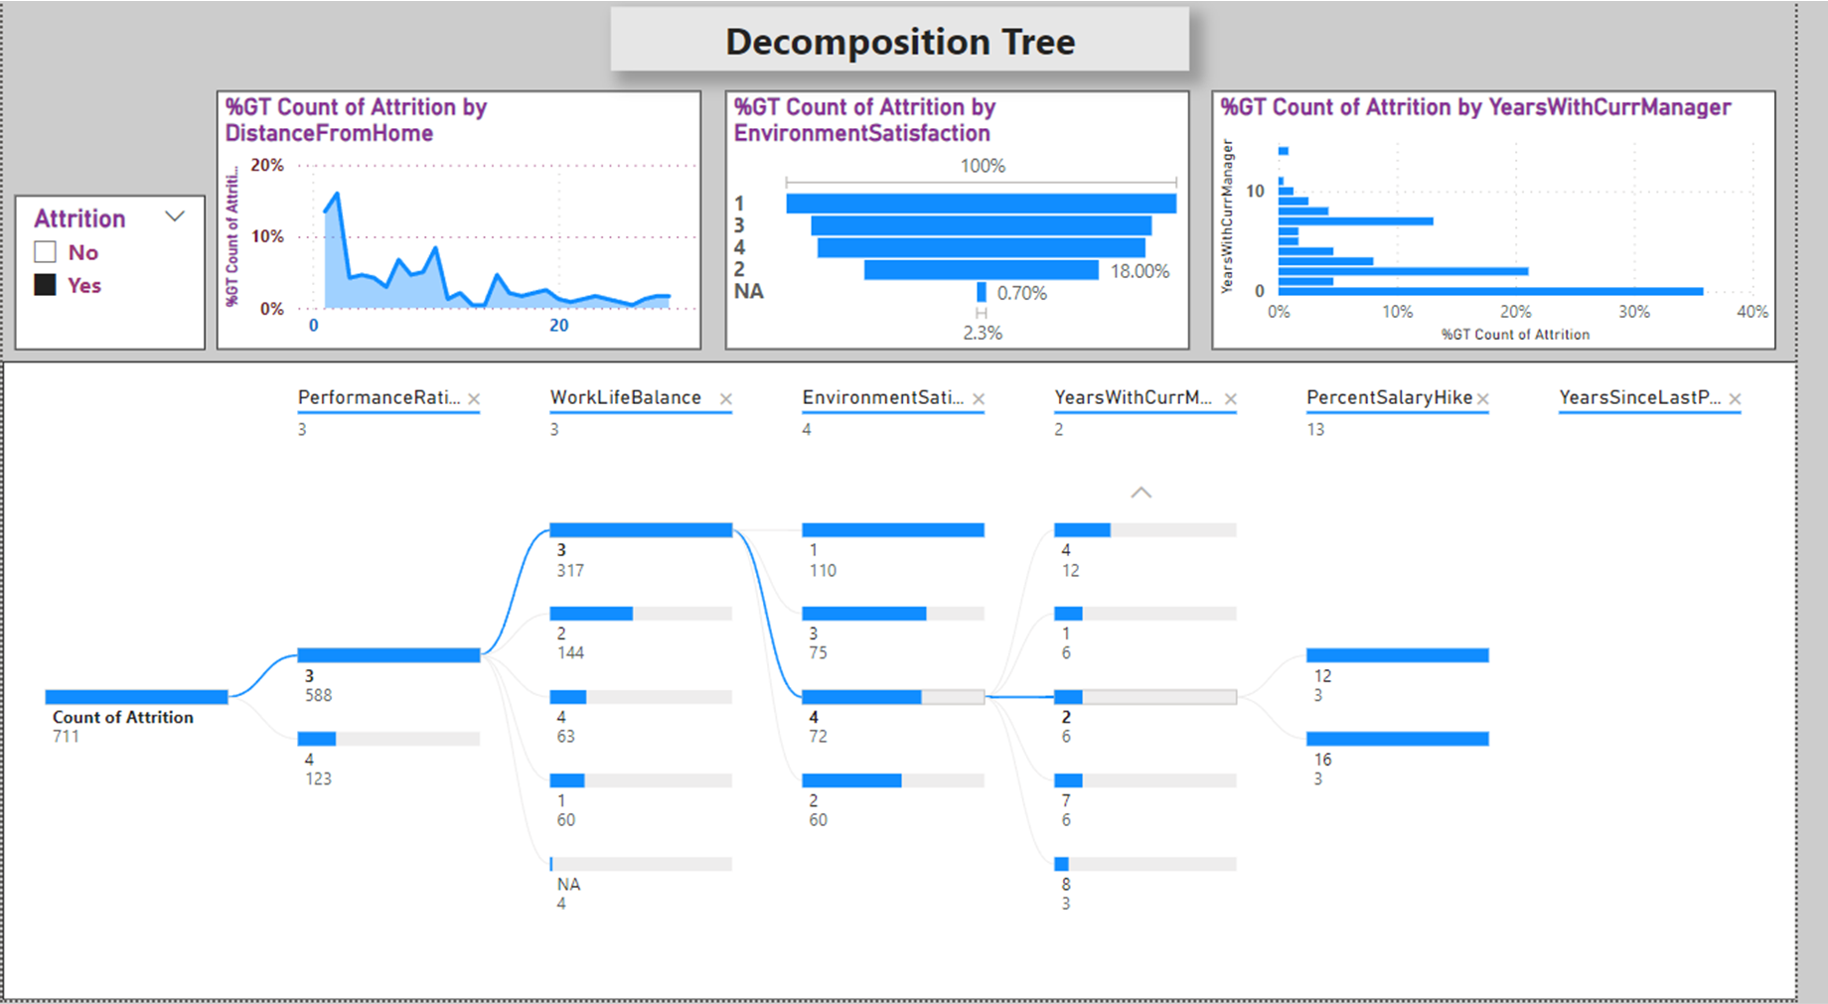

The dashboard page shown, as its layout file describes it:
{"tool":"powerbi","page":{"name":"Decomposition Tree","canvas":[1280,720],"ordinal":1},"visuals":[{"type":"decompositionTreeVisual","fields":{"Analyze":["CountNonNull(Attrition data.Attrition)"],"ExplainBy":["Attrition data.PerformanceRating","Attrition data.WorkLifeBalance","Attrition data.EnvironmentSatisfaction","Attrition data.YearsWithCurrManager","Attrition data.PercentSalaryHike","Attrition data.YearsSinceLastPromotion","Attrition data.JobRole","Attrition data.Department","Attrition data.MonthlyIncome"]},"box":[0,264,1279.9,456],"z":0},{"type":"slicer","fields":{"Values":["Attrition data.Attrition"]},"box":[8.6,145.5,135.7,110],"z":1000},{"type":"stackedAreaChart","fields":{"Category":["Attrition data.DistanceFromHome"],"Y":["CountNonNull(Attrition data.Attrition)"]},"box":[152.8,70.9,345.9,184.6],"z":2000},{"type":"funnel","fields":{"Category":["Attrition data.EnvironmentSatisfaction"],"Y":["Divide(CountNonNull(Attrition data.Attrition), ScopedEval(CountNonNull(Attrition data.Attrition), []))"]},"box":[515.9,70.9,331.3,184.6],"z":3000},{"type":"clusteredBarChart","fields":{"Category":["Attrition data.YearsWithCurrManager"],"Y":["CountNonNull(Attrition data.Attrition)"]},"box":[863,70.9,402.2,184.6],"z":4000},{"type":"textbox","box":[434,11,413.2,45.2],"z":5000}]}

Visuals, with their boxes in screenshot pixels (x1, y1, x2, y2), scaled from the page's 1280x720 canvas onto the 1828x1004 screenshot:
decompositionTreeVisual - CountNonNull(Attrition data.Attrition) x Attrition data.PerformanceRating: 0/368/1827/1003
slicer - Attrition data.Attrition: 12/203/206/356
stackedAreaChart - Attrition data.DistanceFromHome x CountNonNull(Attrition data.Attrition): 218/99/712/356
funnel - Attrition data.EnvironmentSatisfaction x Divide(CountNonNull(Attrition data.Attrition), ScopedEval(CountNonNull(Attrition data.Attrition), [])): 737/99/1210/356
clusteredBarChart - Attrition data.YearsWithCurrManager x CountNonNull(Attrition data.Attrition): 1232/99/1807/356
textbox: 620/15/1210/78
